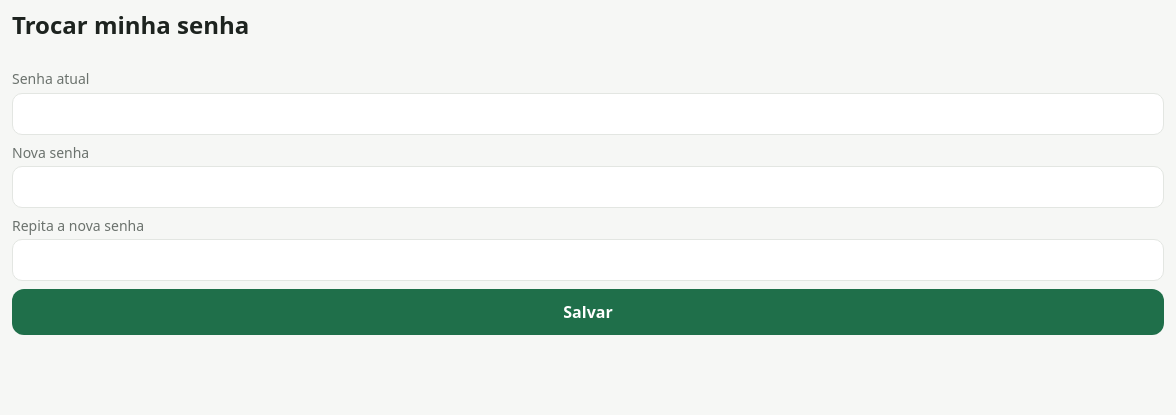
Scenario: TrocarSenha — voluntária (P2) › senha atual incorreta
Type "errada" into the password field labelled "Senha atual" at (588, 114), box [12,93,1164,135]
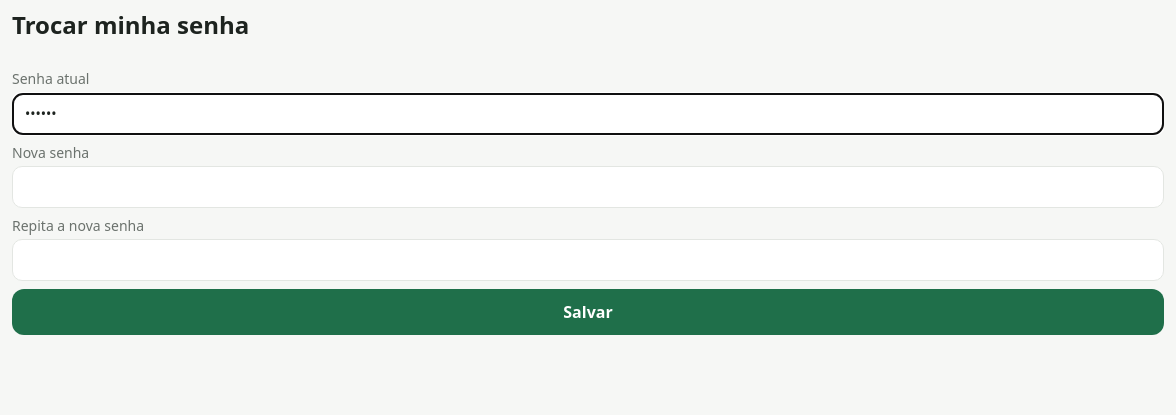
Type "novasenha1" into the password field labelled "Nova senha" at (588, 187), box [12,166,1164,208]
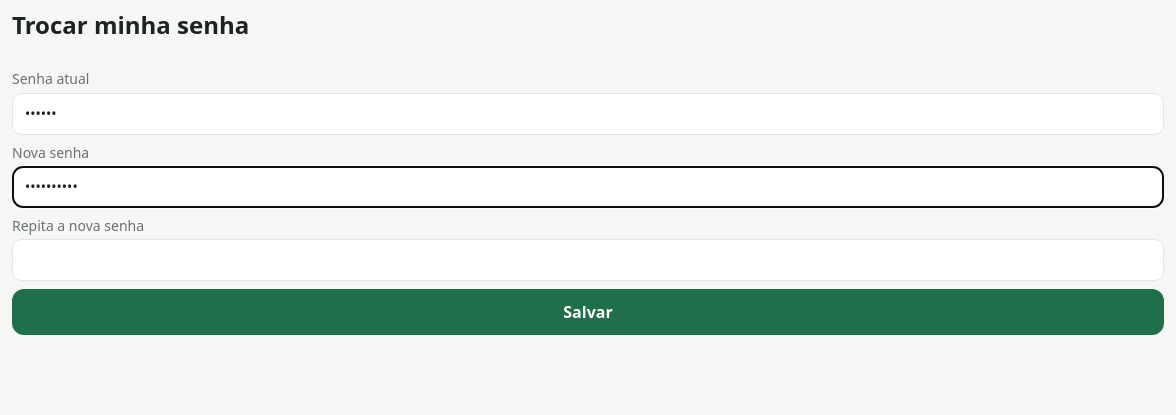
Type "novasenha1" into the password field labelled "Repita a nova senha" at (588, 260), box [12,239,1164,281]
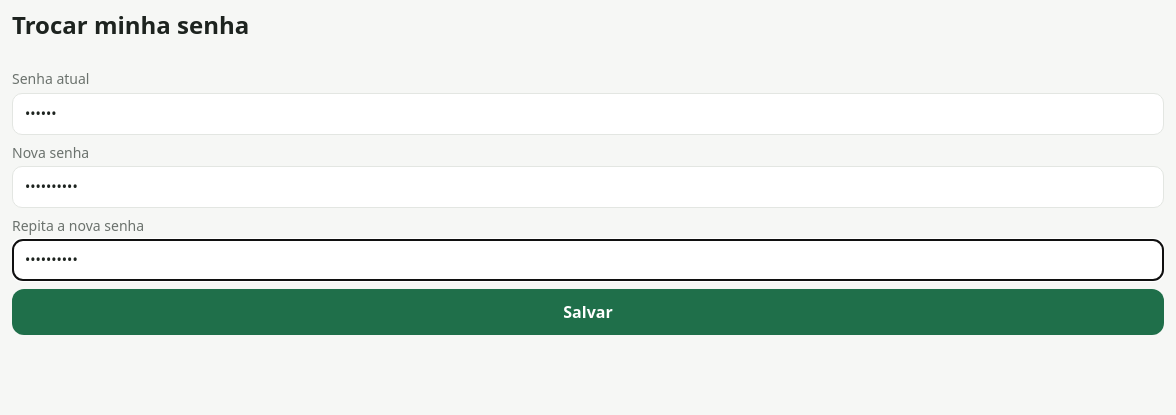
Click the button "Salvar" at (588, 312), box [12,289,1164,335]
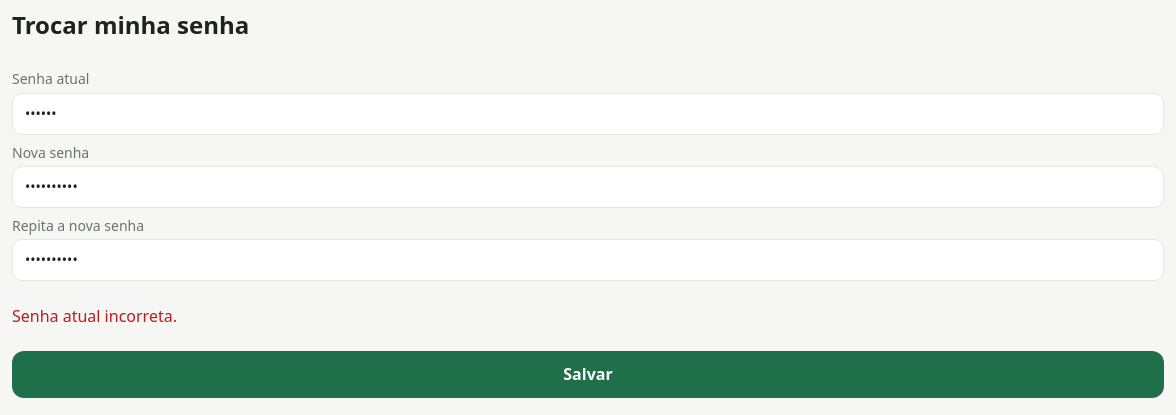
expect the text "Senha atual incorreta." is shown: met, box [12,305,177,327]
